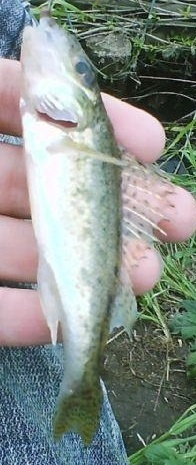Gymnocephalus cernuus: (20, 20, 176, 445)
